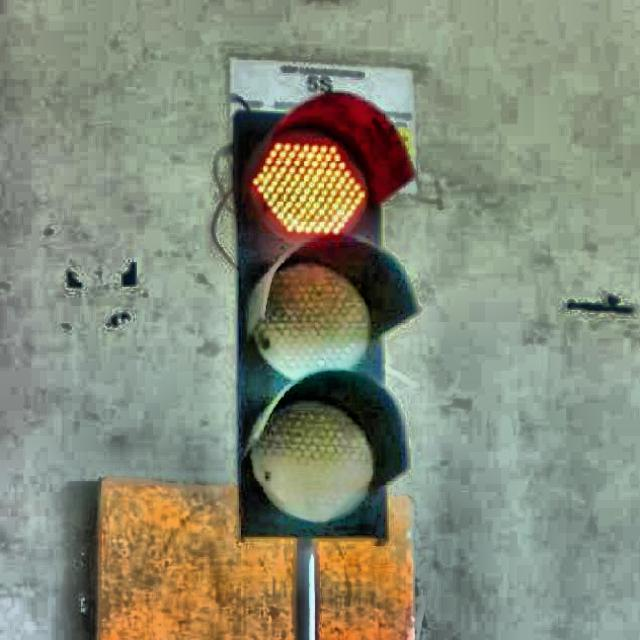red: (231, 104, 385, 541)
